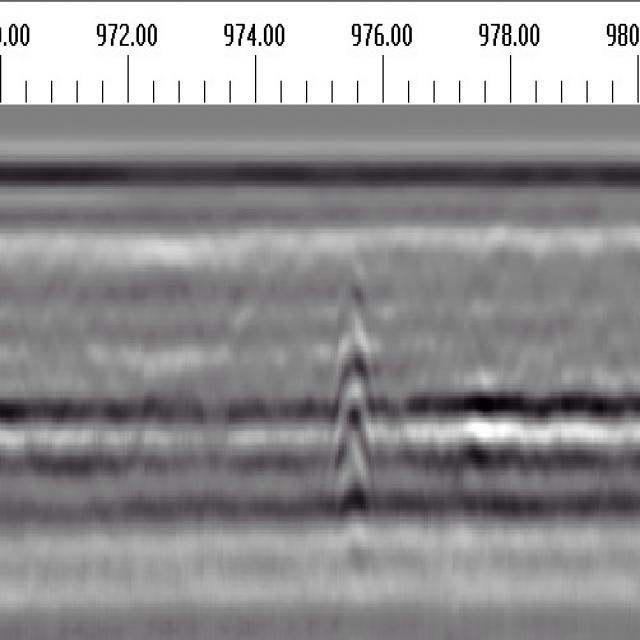crack: (322, 249, 381, 548)
